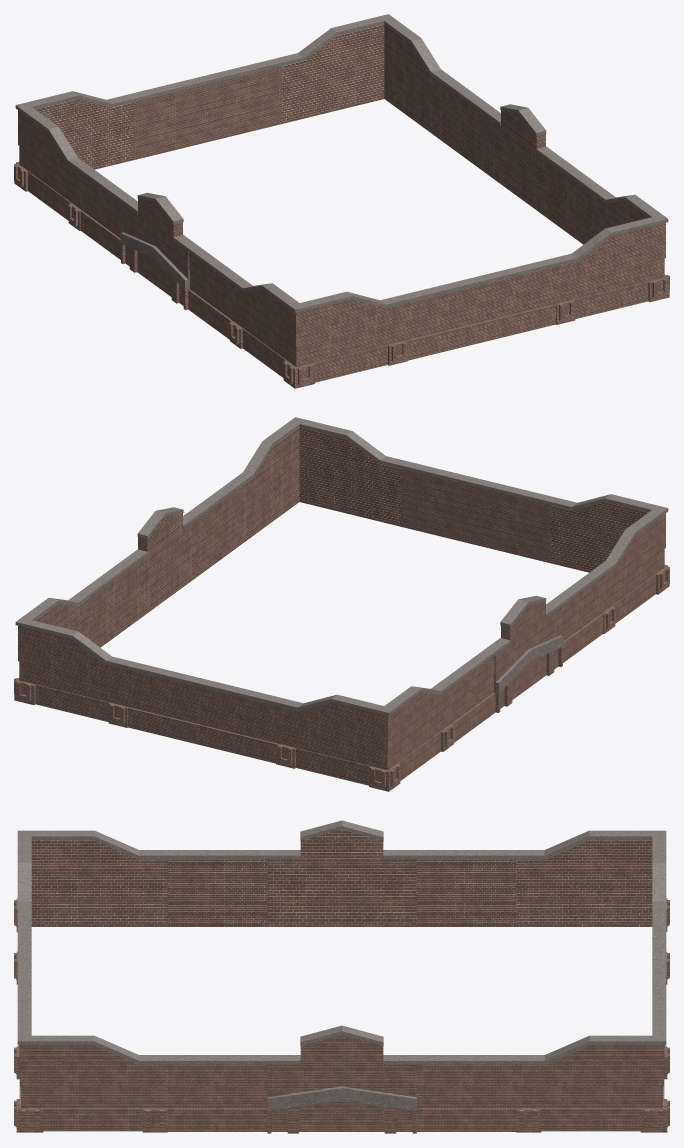
File: BuildingB_Top_Shell_VarA.fbx
3 renders of one model, top to bottom at view 1: azimuth 30°, elevation 25°; view 2: azimuth 150°, elevation 25°; view 3: azimuth 270°, elevation 25°, orthographic. The views are drawn at different scales.
Visible parts, largest first — view 1: BuildingB_Top_Shell_VarA; view 2: BuildingB_Top_Shell_VarA; view 3: BuildingB_Top_Shell_VarA.
Part boxes in pixels (left/top/right/bottom): BuildingB_Top_Shell_VarA: left=14, top=14, right=669, bottom=388; BuildingB_Top_Shell_VarA: left=14, top=417, right=669, bottom=791; BuildingB_Top_Shell_VarA: left=14, top=820, right=669, bottom=1133.
Bounding box in the file's own units: 2036 × 448 × 2636.
